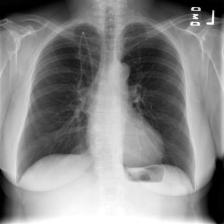normal: (13, 17, 199, 194)
